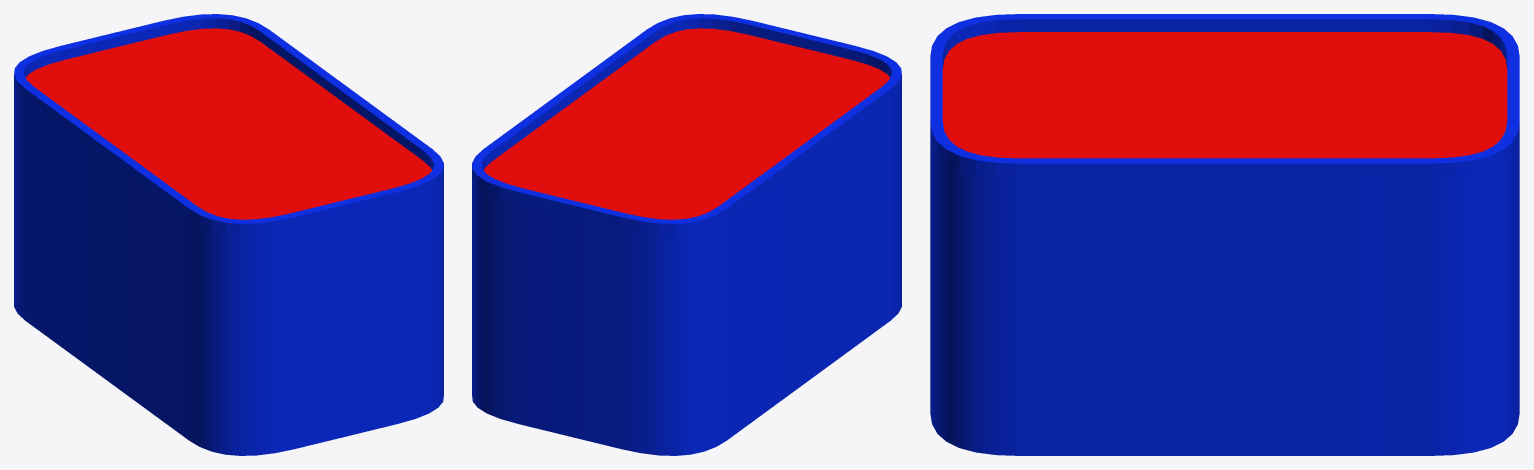
Rendered from Platform.FBX.
3 views of the same model, side by side, from view 1: azimuth 30°, elevation 25°; view 2: azimuth 150°, elevation 25°; view 3: azimuth 270°, elevation 25° (orthographic). The views are drawn at different scales.
Parts seen in each view (by area): view 1: Platform; view 2: Platform; view 3: Platform.
Part boxes in pixels (box(x1,y1,x2,y2)): Platform: box(14, 14, 443, 455); Platform: box(472, 14, 901, 455); Platform: box(930, 14, 1519, 455).
Size of the model in its own units: 50.03 by 45.56 by 83.28.
